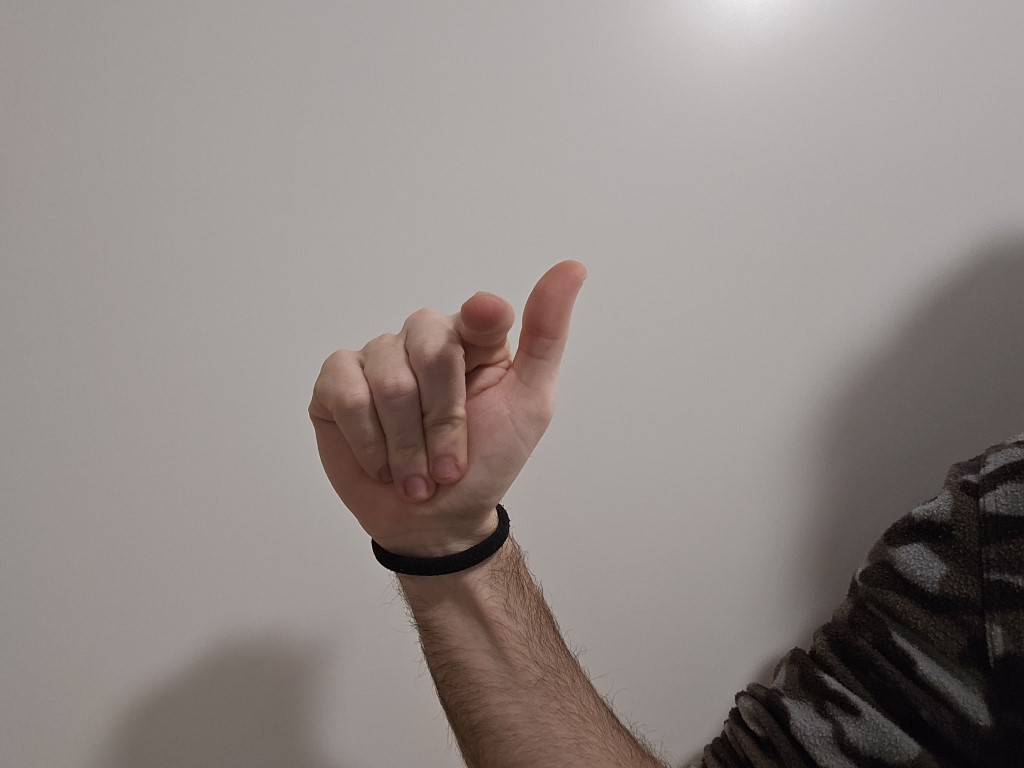t: (270, 259, 604, 545)
